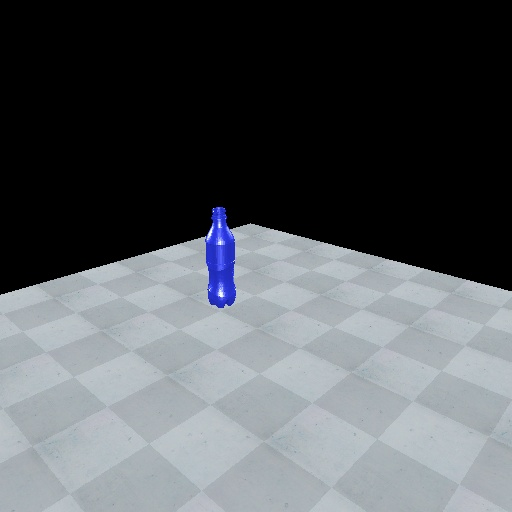bottle: (203, 203, 238, 311)
